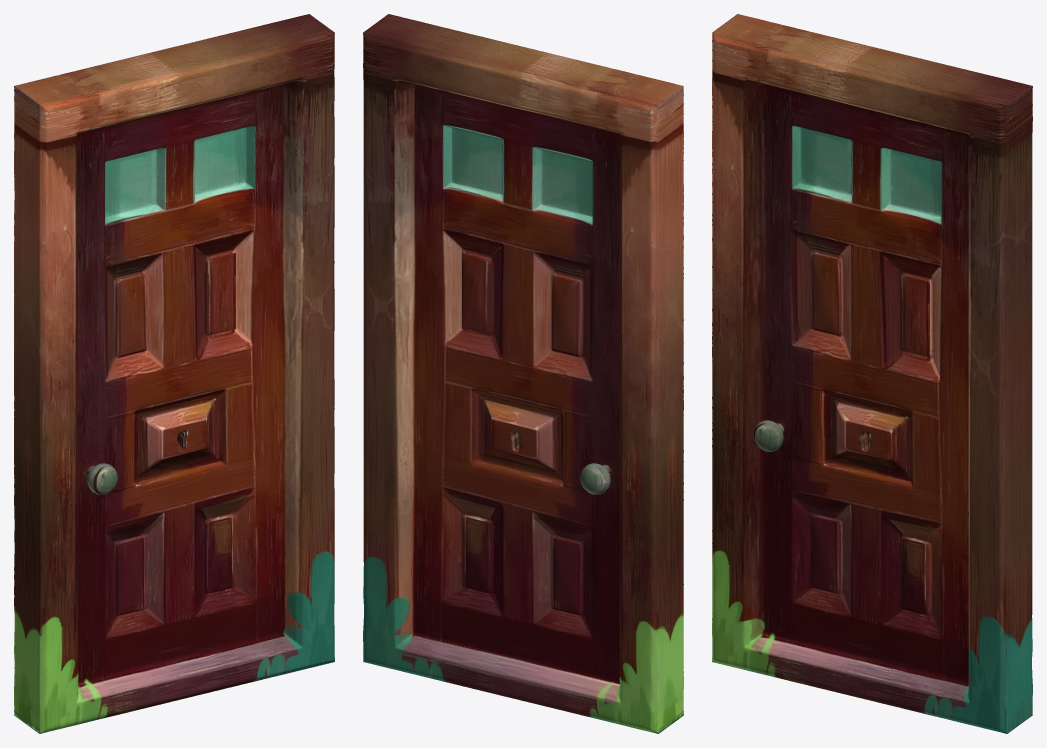
The model's file is Meshy_AI_Weathered_Red_Door_wi_0417044459_texture.fbx.
3 views of the same model, side by side, from view 1: azimuth 30°, elevation 25°; view 2: azimuth 150°, elevation 25°; view 3: azimuth 330°, elevation 25° (orthographic).
Visible parts, largest first — view 1: Mesh_0; view 2: Mesh_0; view 3: Mesh_0.
Boxes of the visible parts, box(x1,y1,x2,y2) form: Mesh_0: box(14, 14, 334, 733); Mesh_0: box(363, 14, 683, 733); Mesh_0: box(712, 14, 1032, 733).
Size of the model in its own units: 93.3 by 190 by 22.91.
Materials: 1 (1 with a texture image).
